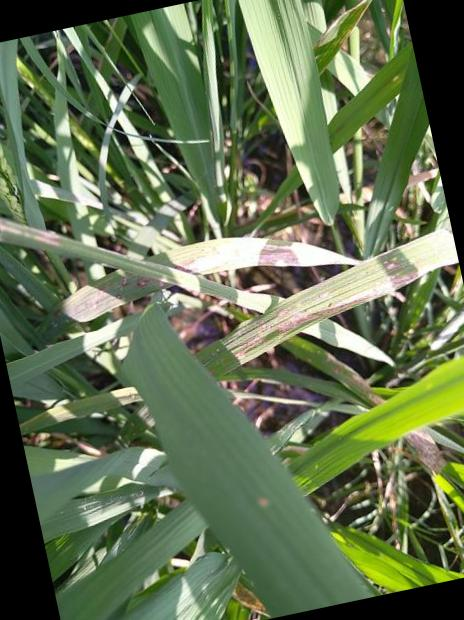Leaf Streak: (194, 230, 460, 379), (28, 273, 163, 350), (283, 337, 396, 412), (165, 239, 360, 276), (19, 387, 143, 436), (313, 0, 375, 76), (0, 220, 68, 254), (407, 428, 445, 476)
